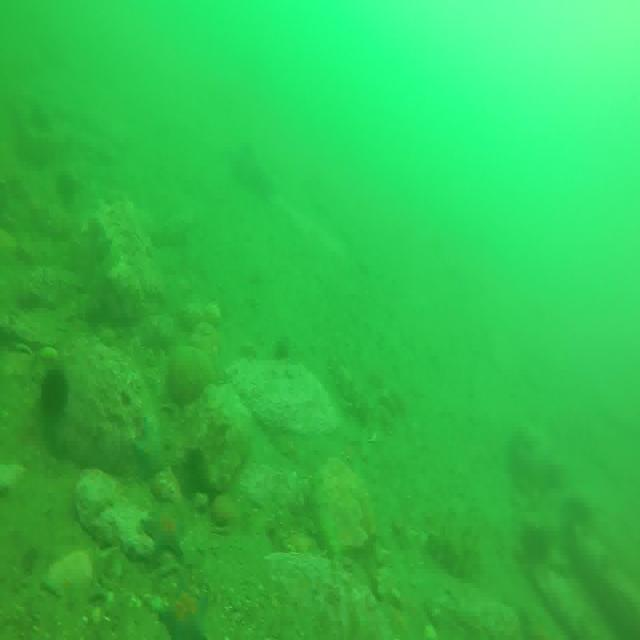echinus: (44, 365, 69, 418)
holothurian: (331, 354, 371, 426), (429, 533, 479, 583)
starfish: (160, 582, 210, 640), (142, 504, 184, 555)
